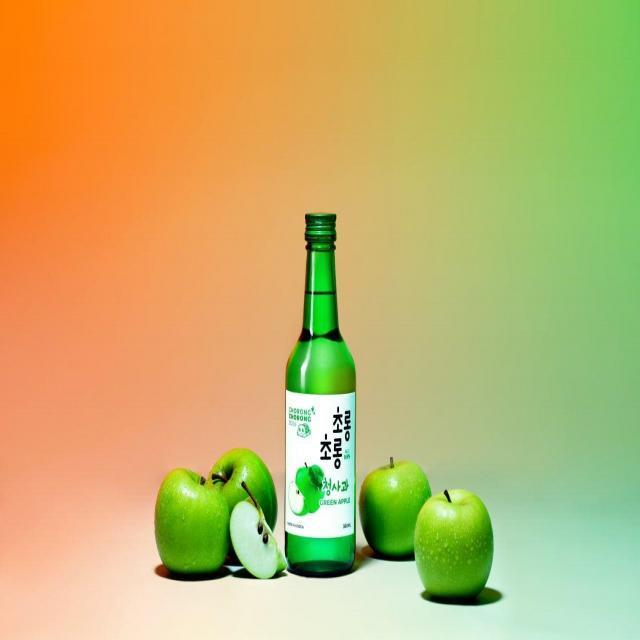soju-bottle: (286, 216, 356, 572)
